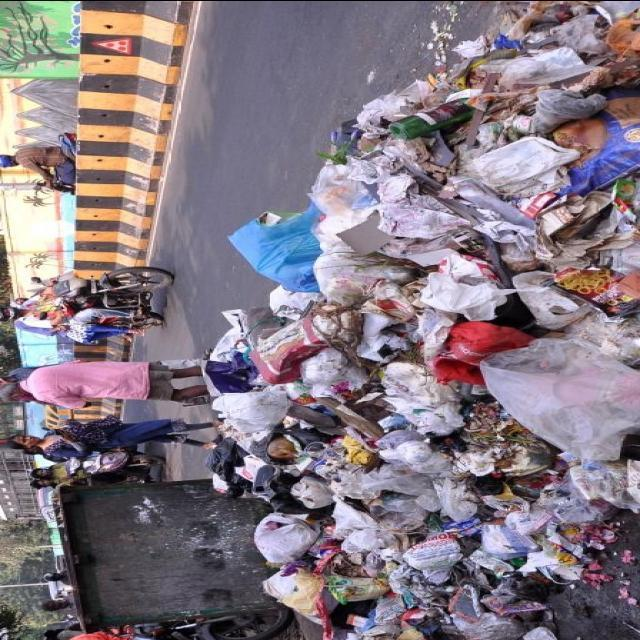Garbage: (203, 0, 640, 640)
Glass_bottle: (391, 99, 472, 139)
Plastic_Bag: (480, 338, 638, 459), (228, 204, 321, 291), (467, 135, 579, 196), (420, 251, 512, 320), (382, 361, 463, 434), (308, 164, 376, 250), (312, 250, 414, 305), (250, 314, 326, 382), (480, 46, 594, 88), (511, 270, 592, 329), (449, 175, 533, 228), (449, 584, 526, 640), (565, 311, 640, 365), (446, 320, 533, 364), (536, 475, 618, 521), (567, 460, 638, 512), (212, 390, 291, 432), (254, 511, 319, 562), (469, 524, 537, 570), (533, 89, 606, 131), (404, 534, 461, 584), (263, 564, 323, 611), (205, 438, 252, 496), (270, 471, 331, 515), (362, 462, 434, 495), (379, 439, 450, 472), (203, 350, 258, 392), (554, 14, 606, 54), (433, 476, 478, 520), (270, 285, 323, 319), (324, 574, 387, 602), (433, 355, 483, 384), (504, 506, 554, 534), (290, 475, 331, 508), (342, 528, 396, 551), (377, 491, 419, 511), (442, 516, 479, 535), (222, 308, 247, 334), (377, 430, 416, 445)
Plastic_wraper: (551, 89, 640, 195), (551, 266, 637, 319)
